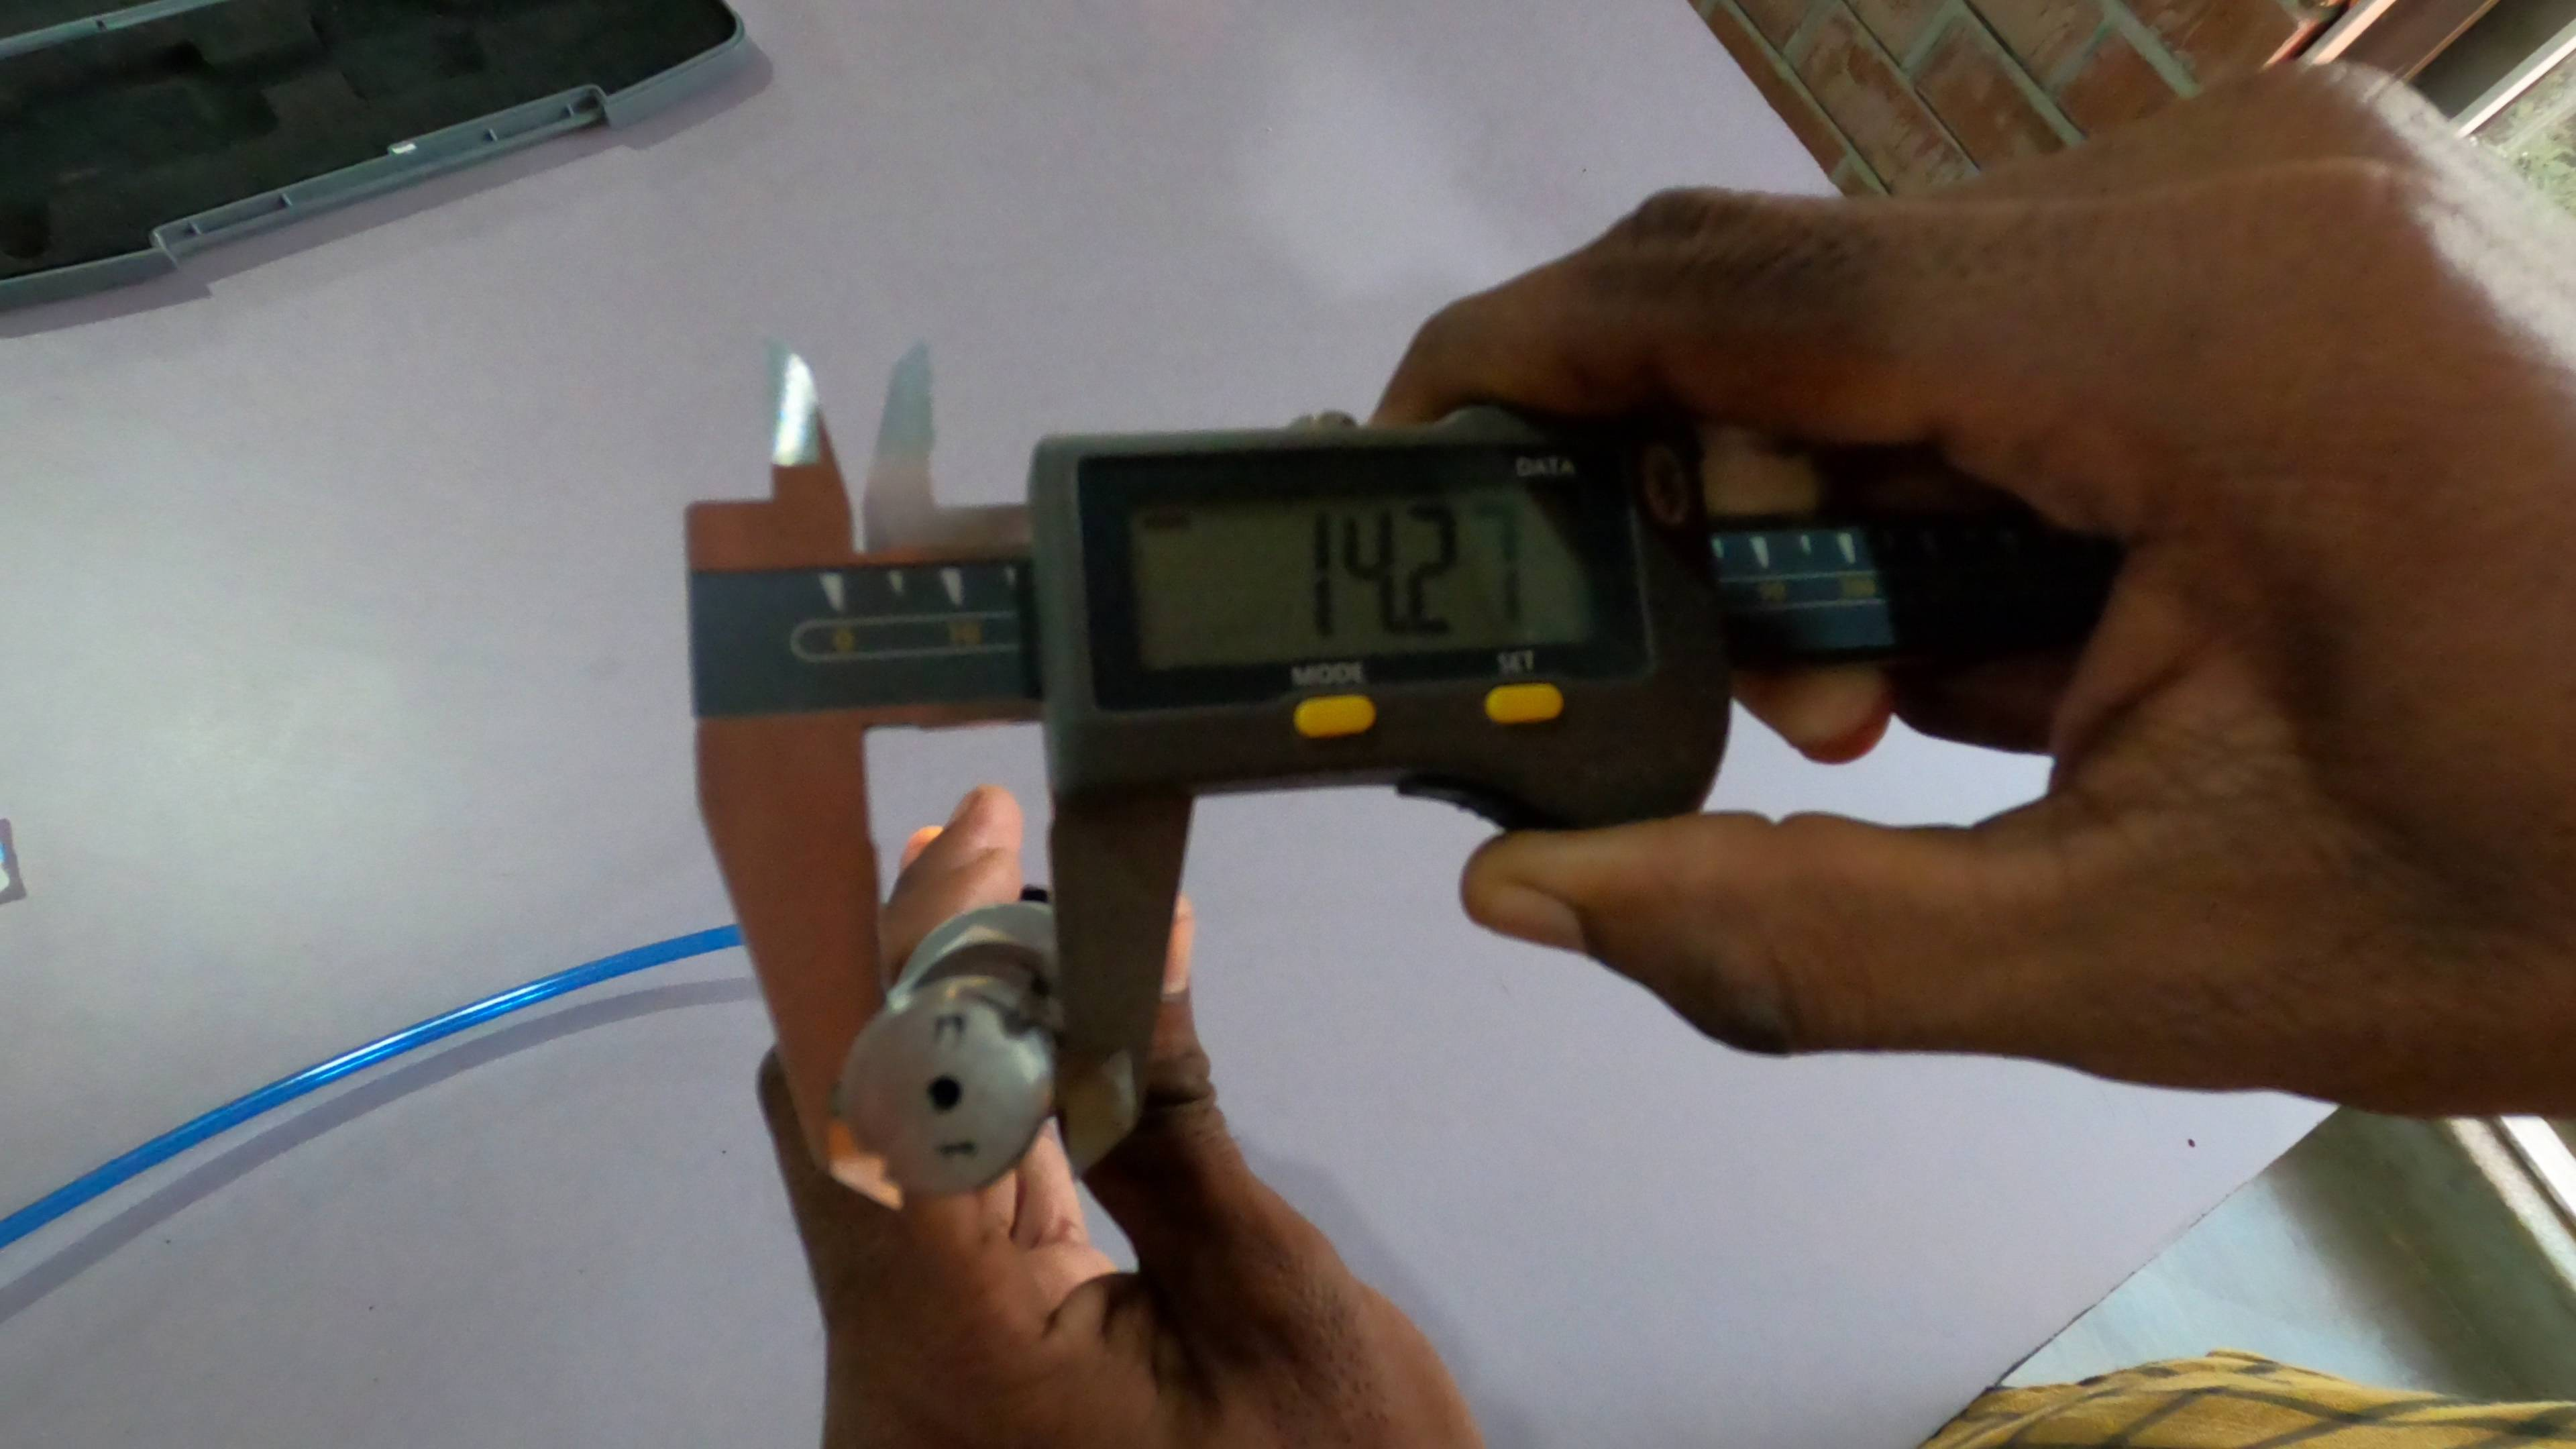vernier_caliper: (679, 333, 2098, 1210)
